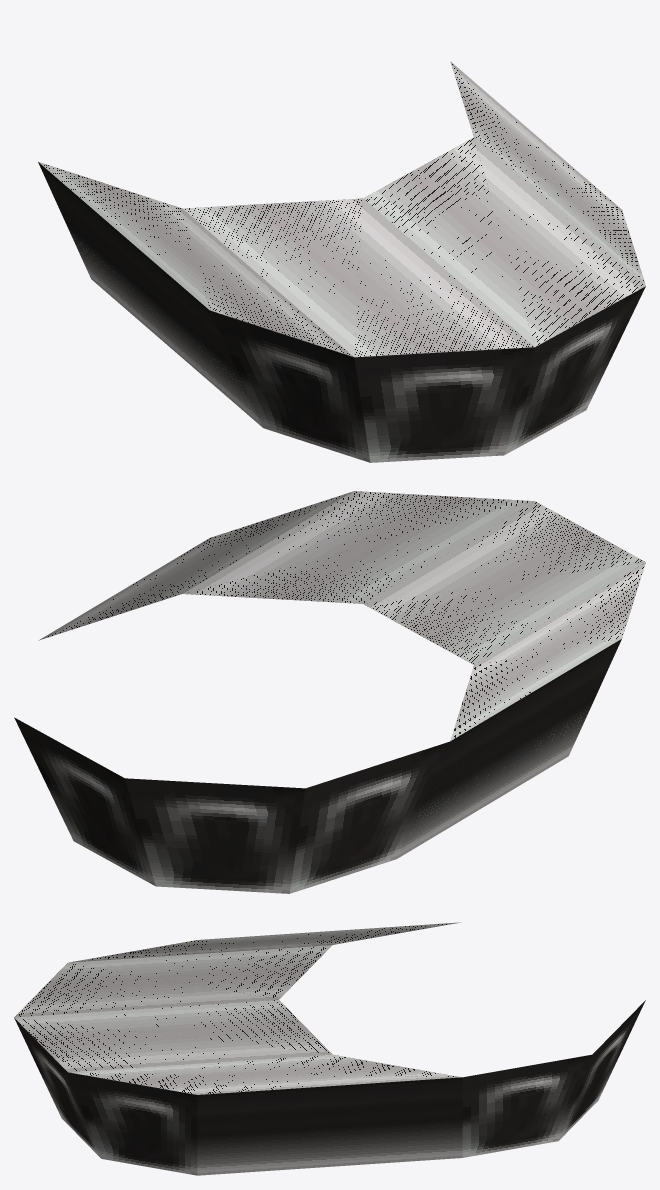
3 renders of one model, top to bottom at view 1: azimuth 30°, elevation 25°; view 2: azimuth 150°, elevation 25°; view 3: azimuth 270°, elevation 25°, orthographic. The views are drawn at different scales.
Parts seen in each view (by area): view 1: model_Object36; view 2: model_Object36; view 3: model_Object36.
Part boxes in pixels (x1,y1,x2,y2): model_Object36: [38, 61, 645, 462]; model_Object36: [14, 491, 645, 893]; model_Object36: [14, 922, 645, 1175].
Size of the model in its own units: 0.5496 by 0.2453 by 0.9467.
Materials: 1 (1 with a texture image).
